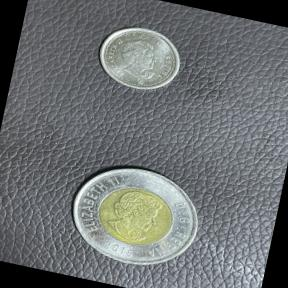Canada-10cent-B: (86, 15, 192, 102)
Canada-2Dollar-B: (53, 150, 214, 280)
